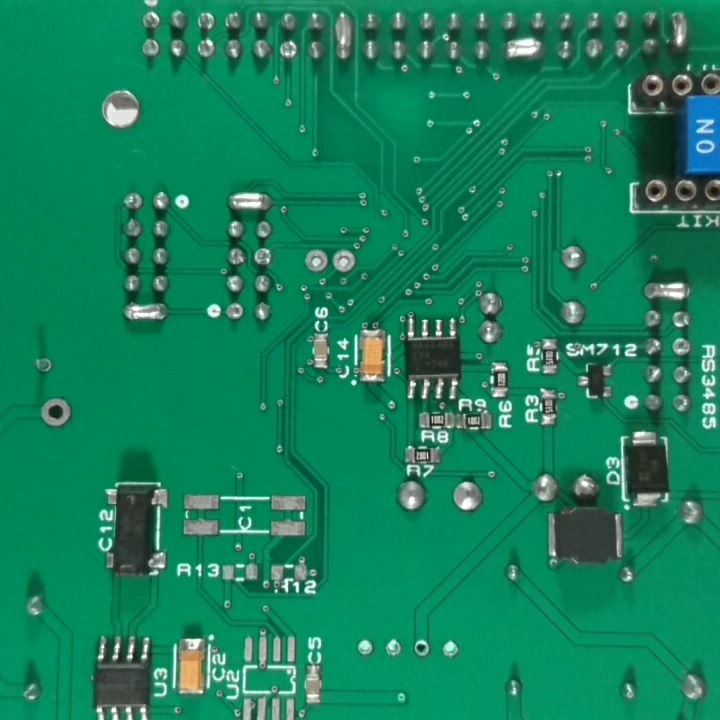F: (36, 397, 73, 432), (301, 247, 331, 276), (330, 249, 357, 278), (31, 355, 56, 380), (193, 11, 219, 35), (139, 9, 163, 33), (277, 39, 301, 62), (670, 336, 694, 359), (381, 637, 404, 661), (250, 245, 273, 267), (225, 302, 247, 323), (411, 636, 431, 659), (440, 639, 461, 660), (122, 192, 144, 212), (355, 636, 375, 658)
P: (641, 276, 696, 306), (221, 189, 276, 217), (121, 300, 173, 328), (331, 11, 357, 63), (667, 9, 693, 59), (504, 37, 547, 64)
